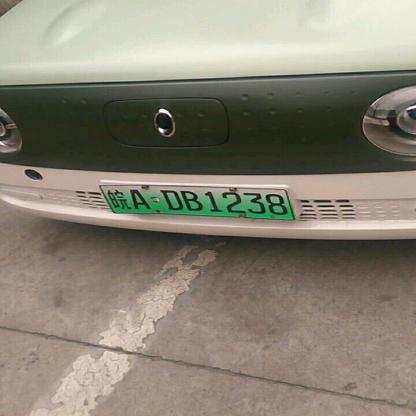lp: (100, 185, 292, 219)
